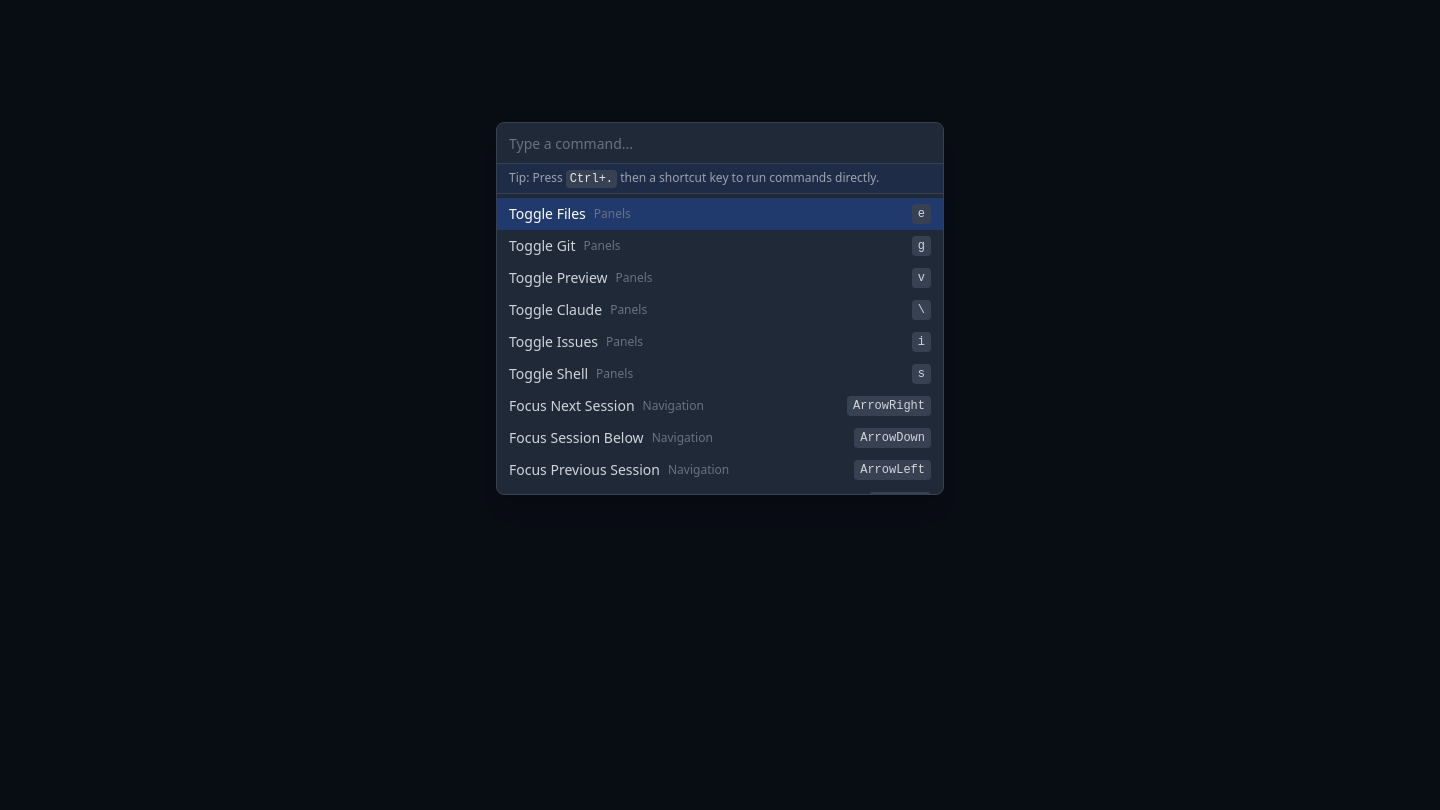
CommandPalette › no-match filter shows empty state
Type "xyznonexistent" into the field with test id "command-palette-input".
click(720, 144); type("xyznonexistent")  # box [509,134,931,154]
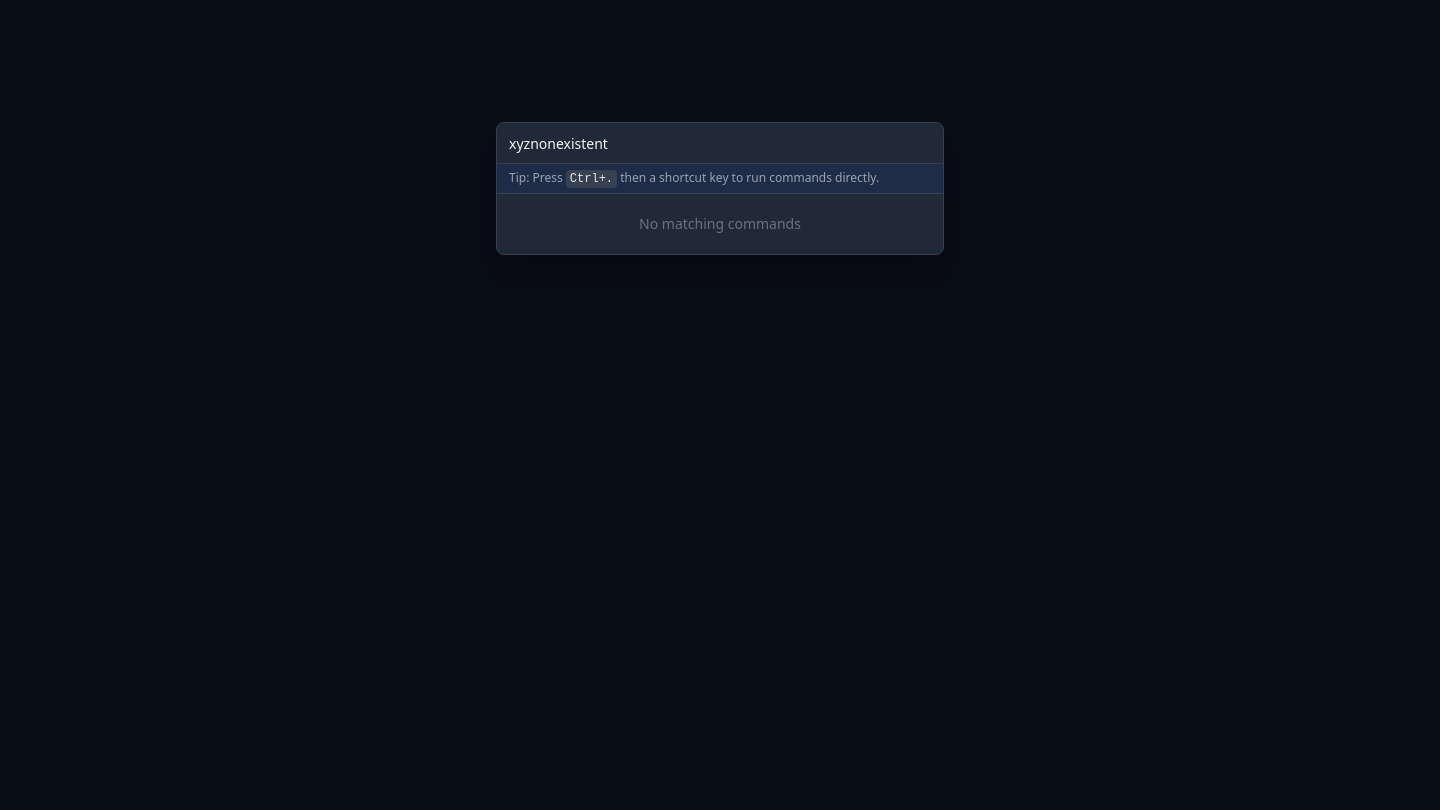
Now the text "No matching commands" is shown, box [639,214,801,232]
